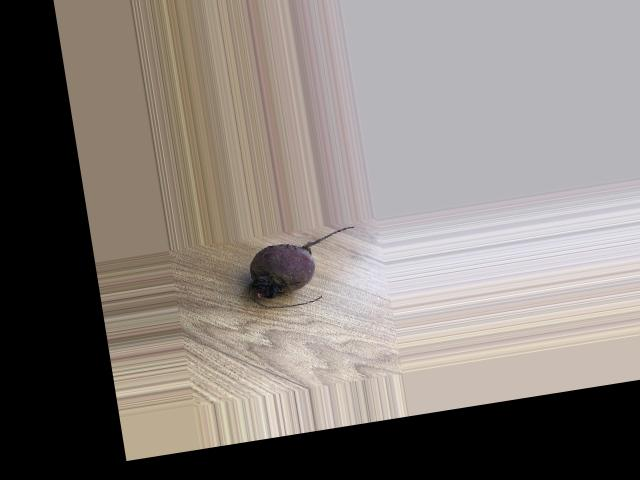beet: (242, 225, 365, 312)
